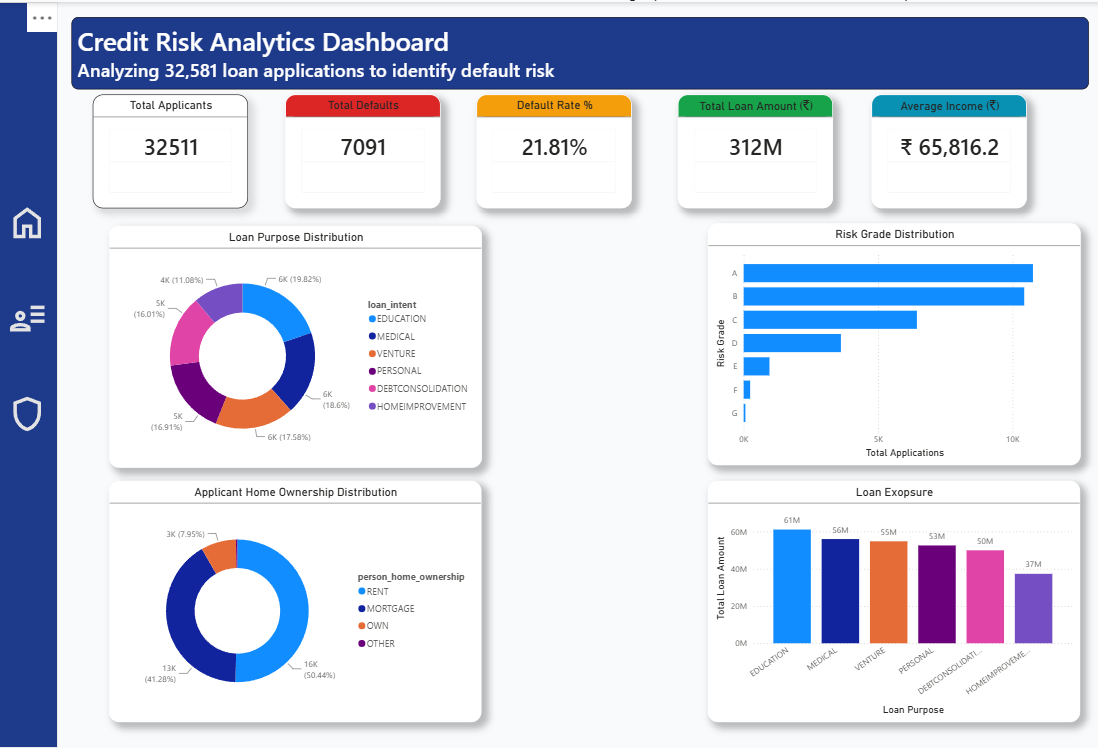

Layout of this report page (visuals, bound fields, positions):
{"tool":"powerbi","page":{"name":"Home Page","canvas":[1600,1080],"ordinal":0},"visuals":[{"type":"shape","box":[0,0,85,1079.5],"z":0},{"type":"image","box":[10.9,289.8,60,60],"z":1000},{"type":"image","box":[10.9,427.5,60,60],"z":2000},{"type":"image","box":[10.9,566.9,60,60],"z":3000},{"type":"textbox","box":[105.1,21.7,1472.6,105.1],"z":4000},{"type":"cardVisual","title":"Total Applicants","fields":{"Data":["credit_risk_dataset.Total Applications"]},"box":[135.8,134,225,165],"z":5000},{"type":"cardVisual","title":"Total Defaults","fields":{"Data":["credit_risk_dataset.Total Defaults"]},"box":[414.8,134,225,165],"z":6000},{"type":"cardVisual","title":"Default Rate %","fields":{"Data":["credit_risk_dataset.Default Rate %"]},"box":[691.9,134,225,165],"z":7000},{"type":"cardVisual","title":"Total Loan Amount (₹)","fields":{"Data":["credit_risk_dataset.Total Loan Amount"]},"box":[983.5,134,225,165],"z":8000},{"type":"cardVisual","title":"Average Income (₹)","fields":{"Data":["credit_risk_dataset.Average Income"]},"box":[1262.5,134,225,165],"z":9000},{"type":"donutChart","title":"Loan Purpose Distribution","fields":{"Category":["credit_risk_dataset.loan_intent"],"Y":["credit_risk_dataset.Total Applications"]},"box":[159.5,323.3,540,350],"z":10000},{"type":"clusteredBarChart","title":"Risk Grade Distribution","fields":{"Y":["CountNonNull(credit_risk_dataset.loan_grade)"],"Category":["credit_risk_dataset.loan_grade"]},"box":[1025.2,320.6,540,350],"z":11000},{"type":"clusteredColumnChart","title":"Loan Exopsure ","fields":{"Category":["credit_risk_dataset.loan_intent"],"Y":["Sum(credit_risk_dataset.loan_amnt)"]},"box":[1026.1,693.1,539.3,349.3],"z":12000},{"type":"donutChart","title":"Applicant Home Ownership Distribution","fields":{"Y":["credit_risk_dataset.Total Applications"],"Category":["credit_risk_dataset.person_home_ownership"]},"box":[159.3,693.1,539.3,349.3],"z":13000}]}

Visuals, with their boxes on the page's 1600x1080 design canvas (x1, y1, x2, y2). These are canvas units, not pixel positions in the 1098x748 screenshot, which may show the page scaled, cropped or inside an application window:
shape: crop(0, 0, 85, 1080)
image: crop(11, 290, 71, 350)
image: crop(11, 428, 71, 488)
image: crop(11, 567, 71, 627)
textbox: crop(105, 22, 1578, 127)
"Total Applicants" cardVisual: crop(136, 134, 361, 299)
"Total Defaults" cardVisual: crop(415, 134, 640, 299)
"Default Rate %" cardVisual: crop(692, 134, 917, 299)
"Total Loan Amount (₹)" cardVisual: crop(984, 134, 1208, 299)
"Average Income (₹)" cardVisual: crop(1262, 134, 1488, 299)
"Loan Purpose Distribution" donutChart: crop(160, 323, 700, 673)
"Risk Grade Distribution" clusteredBarChart: crop(1025, 321, 1565, 671)
"Loan Exopsure " clusteredColumnChart: crop(1026, 693, 1565, 1042)
"Applicant Home Ownership Distribution" donutChart: crop(159, 693, 699, 1042)
